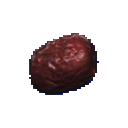gd: (19, 23, 109, 111)
